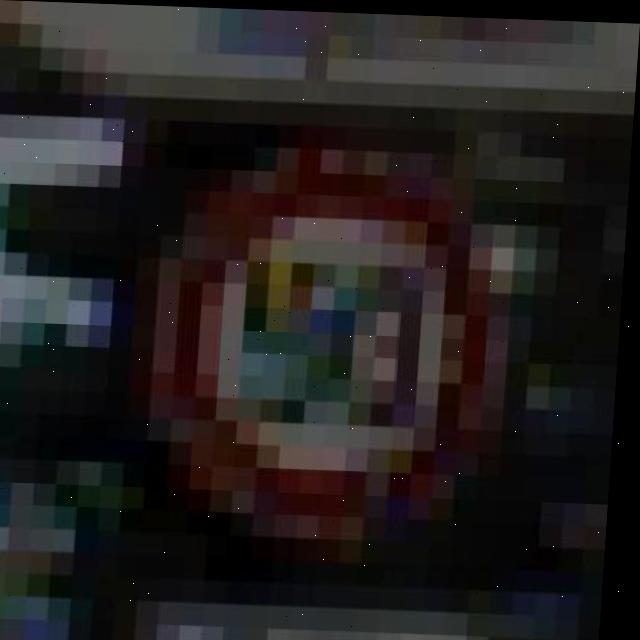Speed limit 50: (131, 112, 526, 561)
